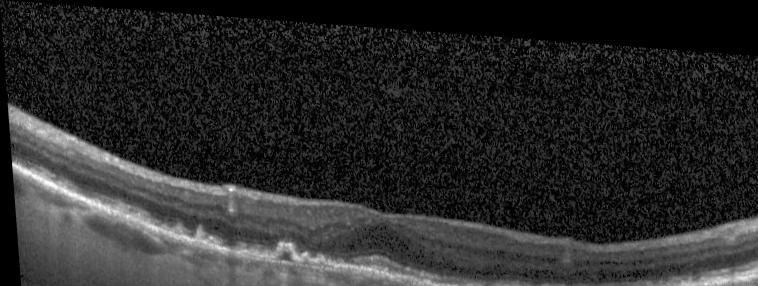retinal_drusen: (274, 242, 290, 257), (313, 252, 321, 262), (299, 251, 305, 260)
